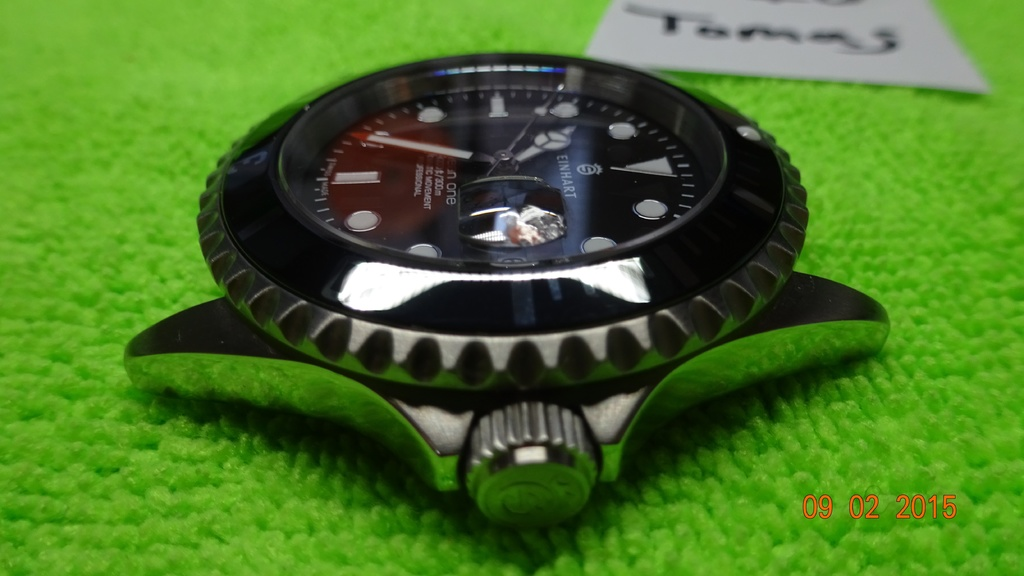watch: (140, 46, 842, 511)
